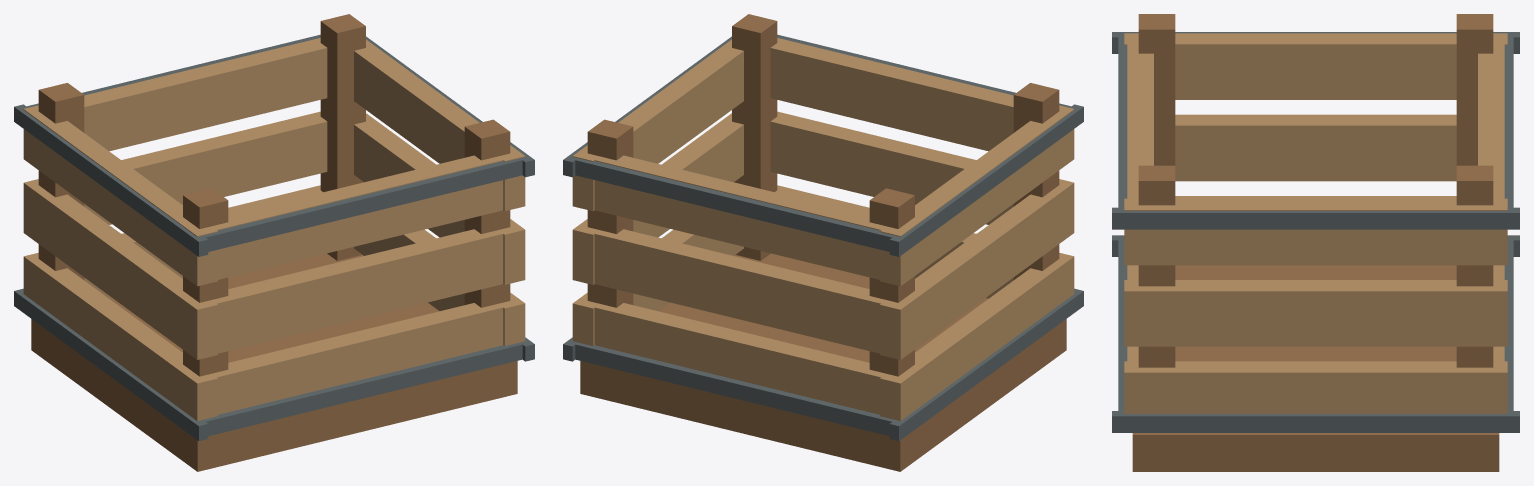
File: vf_catch_basket.glb
3 renders of one model, left to right at view 1: azimuth 30°, elevation 25°; view 2: azimuth 150°, elevation 25°; view 3: azimuth 270°, elevation 25°, orthographic. The views are drawn at different scales.
Visible parts, largest first — view 1: Static; view 2: Static; view 3: Static.
Part boxes in pixels (bbox=[...]): Static: bbox=[14, 14, 534, 471]; Static: bbox=[563, 14, 1083, 471]; Static: bbox=[1112, 14, 1519, 471].
Size of the model in its own units: 1.05 by 0.78 by 1.
